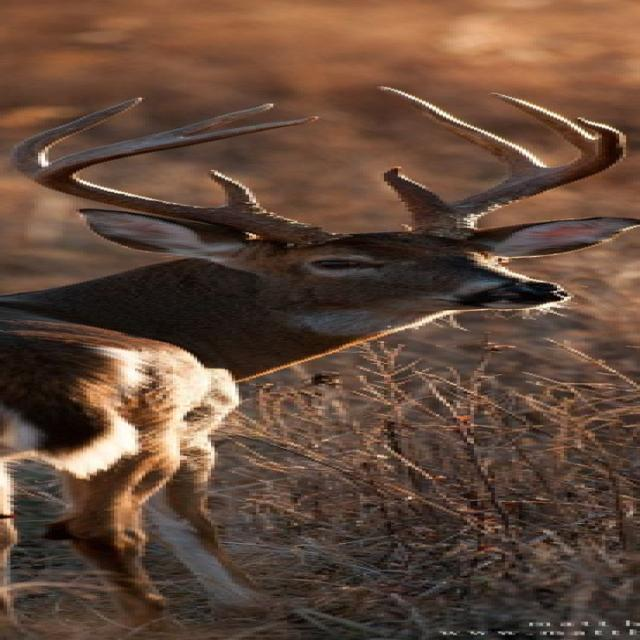L-F: (408, 117, 628, 241)
L-G1: (380, 163, 447, 215)
L-G2: (374, 85, 548, 179)
L-G3: (485, 91, 597, 150)
R-F: (24, 115, 354, 248)
R-G1: (205, 168, 269, 212)
R-G2: (10, 96, 149, 175)
R-G3: (137, 102, 274, 138)
